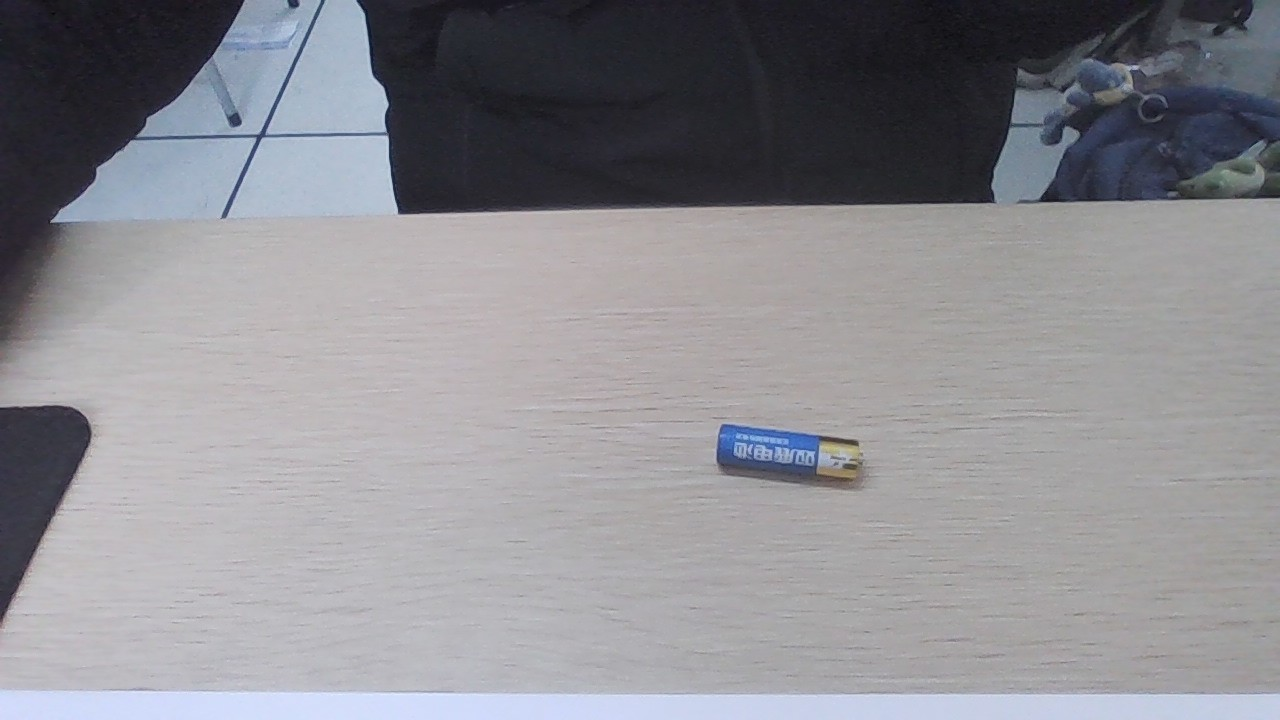YH-battery: (708, 413, 866, 486)
